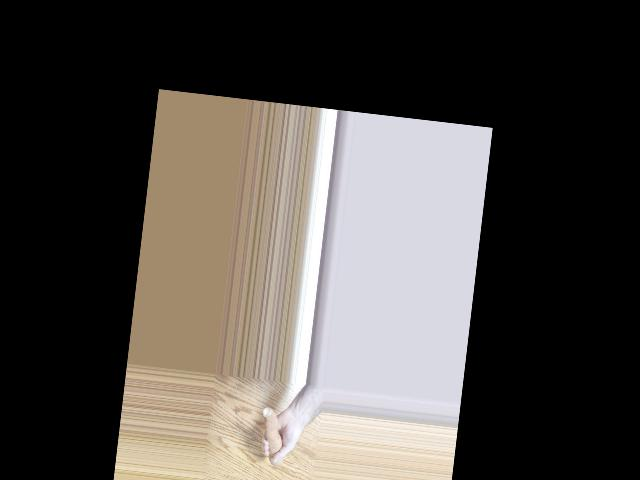sweet_potato: (257, 403, 288, 469)
